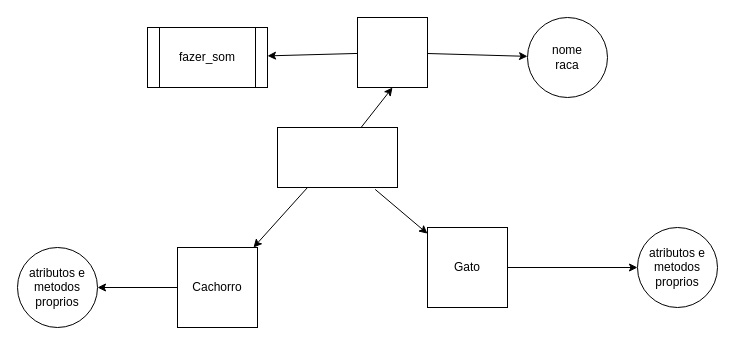
The diagram is 735 pixels wide and 345 high, and some of its shapes have lost their labels. Each missing label, with the centre of its shape:
"Animais" belongs at (x=392, y=52).
"Mamifero" belongs at (x=337, y=157).
